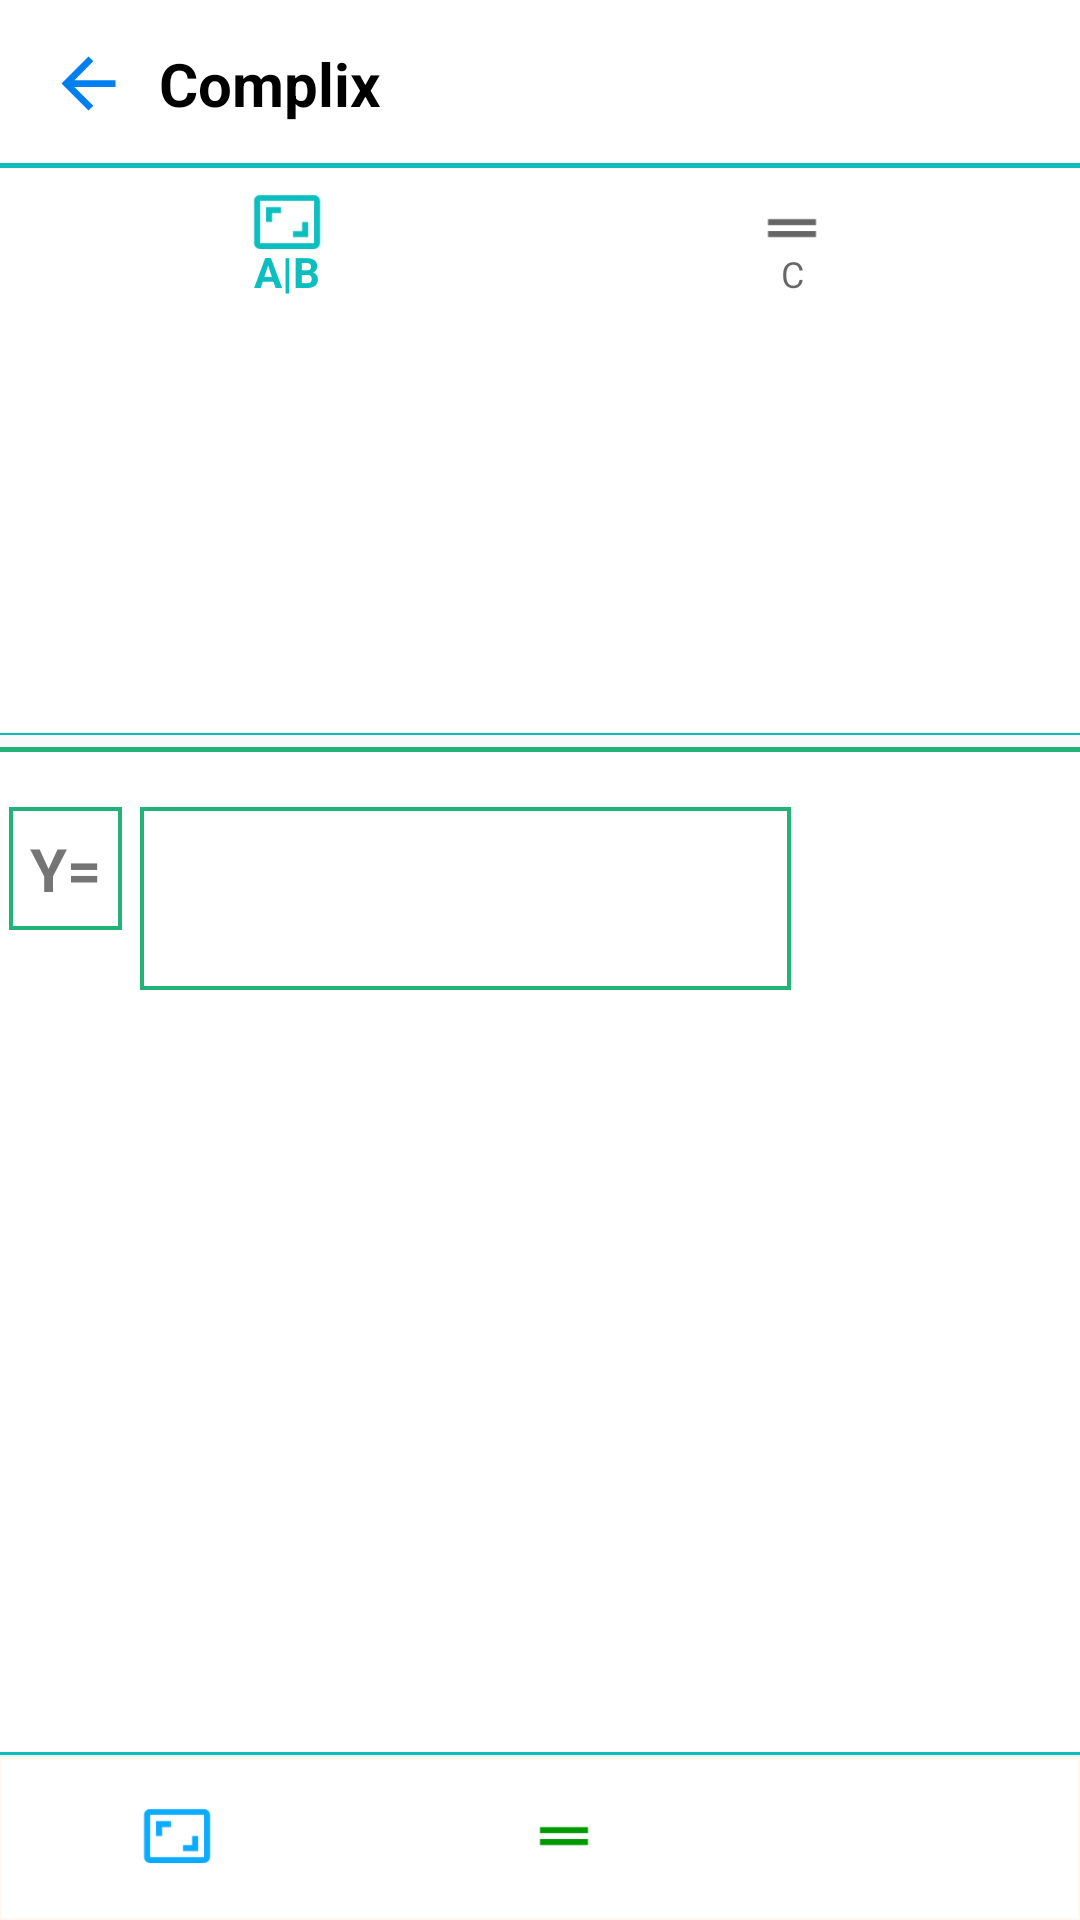

Icon bounding boxes for this 1080px×1920px phone screenshot, format box(x1, y1, x2, y2):
arrow back: box(61, 56, 116, 111)
